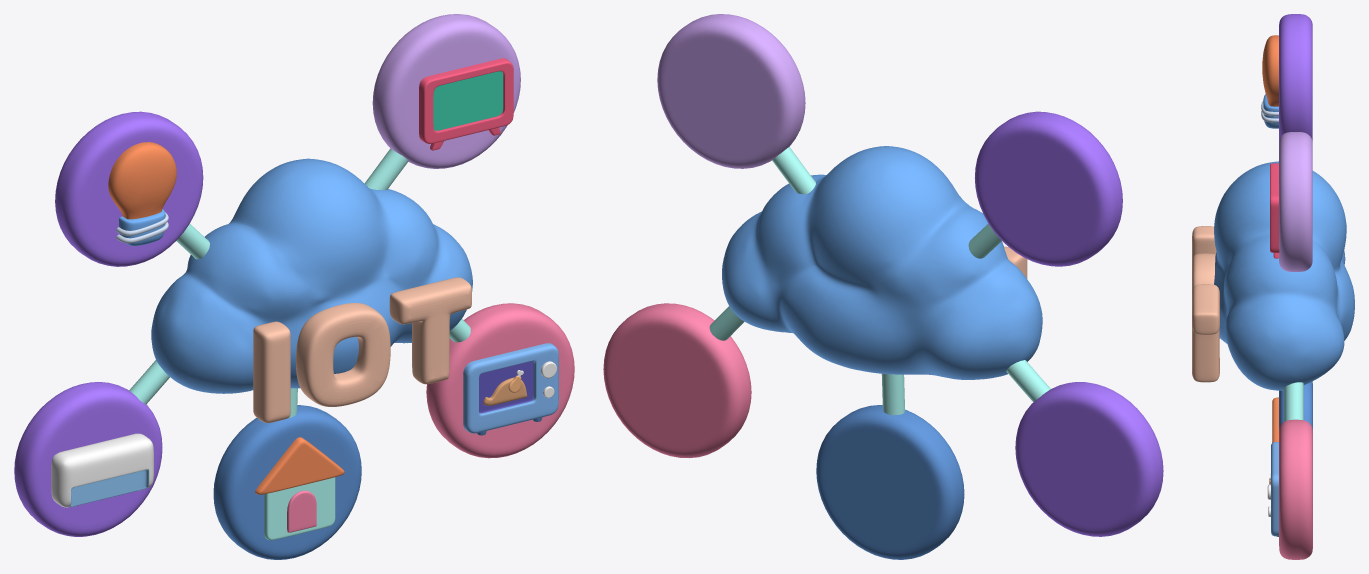
Rendered from iot.glb.
3 renders of one model, left to right at view 1: azimuth 30°, elevation 25°; view 2: azimuth 150°, elevation 25°; view 3: azimuth 270°, elevation 25°, orthographic. The views are drawn at different scales.
Parts seen in each view (by area): view 1: IOT; view 2: IOT; view 3: IOT.
Part boxes in pixels (x1=…): IOT: x1=14, y1=14, x2=574, y2=559; IOT: x1=603, y1=14, x2=1163, y2=559; IOT: x1=1192, y1=14, x2=1354, y2=559.
Size of the model in its own units: 16.34 by 14.1 by 4.78.
